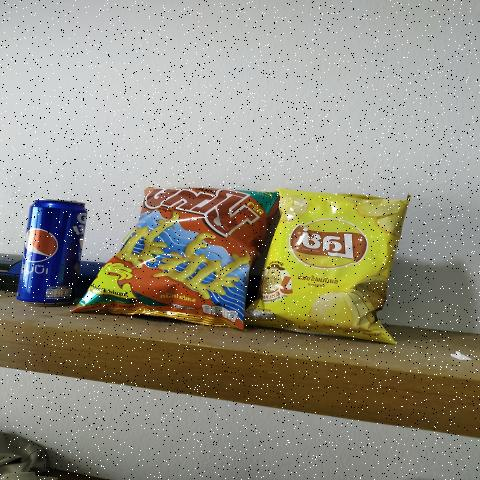pepsi_blue: (7, 190, 94, 309)
